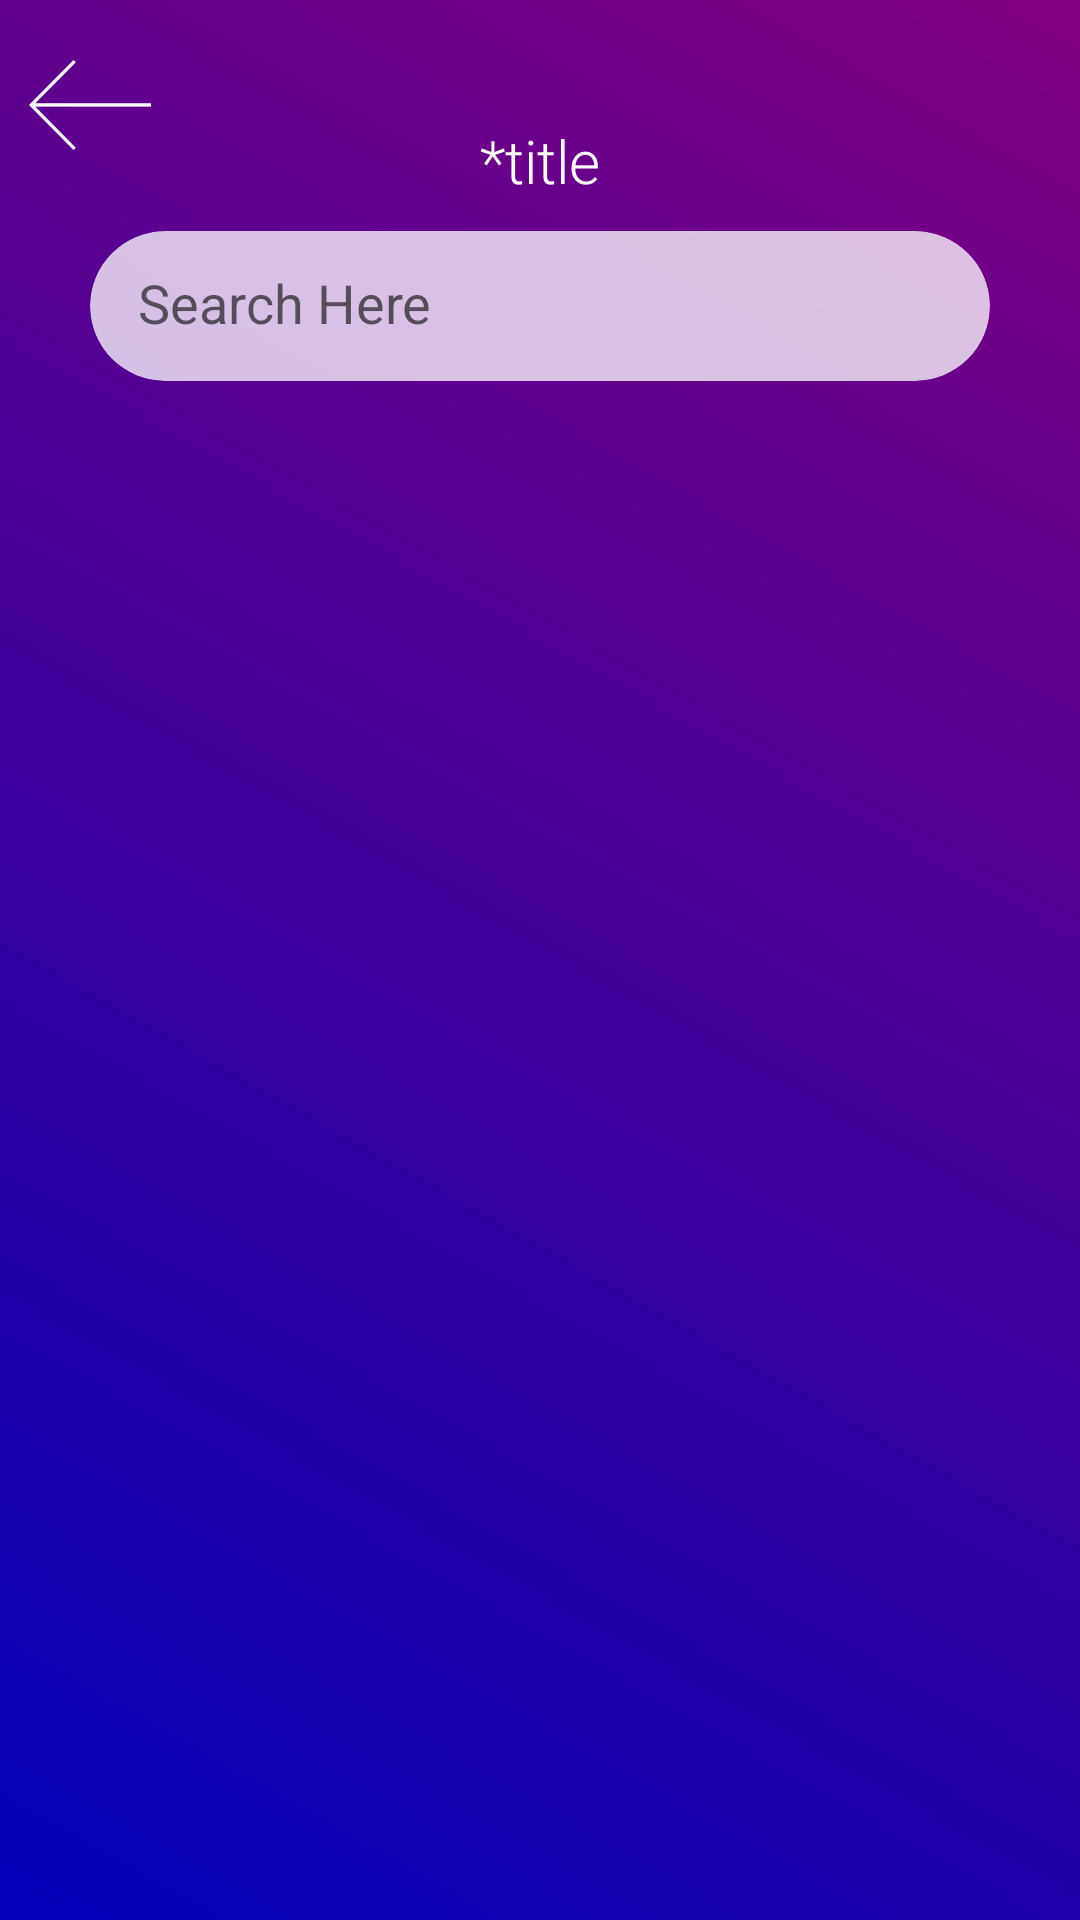

Point at icon controls on the screen. Image size 1080w x 1920h, points as [x,y].
arrow: [90,105]
